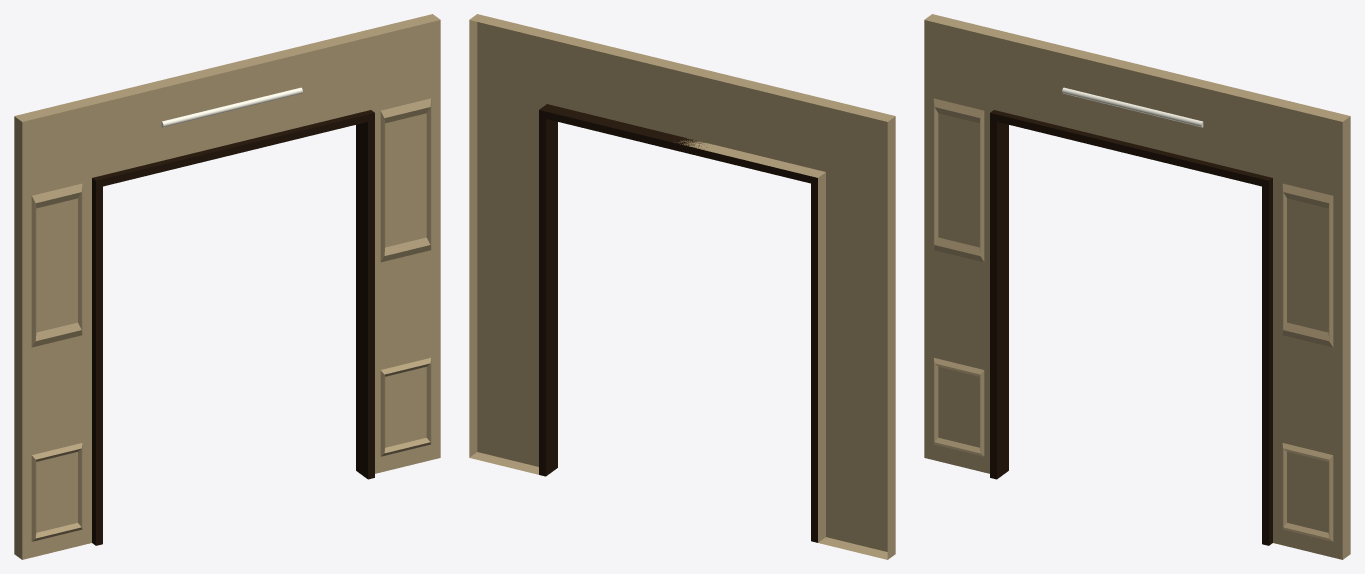
File: ElevatorExteriorWithLight_Fixed.fbx
3 views of the same model, side by side, from view 1: azimuth 30°, elevation 25°; view 2: azimuth 150°, elevation 25°; view 3: azimuth 330°, elevation 25° (orthographic).
Visible parts, largest first — view 1: Wall005, Plane001, LightExterior; view 2: Wall005, Plane001; view 3: Wall005, Plane001, LightExterior.
Boxes of the visible parts, bbox=[...] form: Wall005: bbox=[14, 14, 440, 559]; Plane001: bbox=[92, 110, 374, 545]; LightExterior: bbox=[161, 87, 302, 127]; Wall005: bbox=[469, 14, 895, 559]; Plane001: bbox=[539, 104, 817, 542]; Wall005: bbox=[924, 14, 1350, 559]; Plane001: bbox=[990, 110, 1272, 545]; LightExterior: bbox=[1062, 87, 1203, 127].
Size of the model in its own units: 3 by 3 by 0.15.
